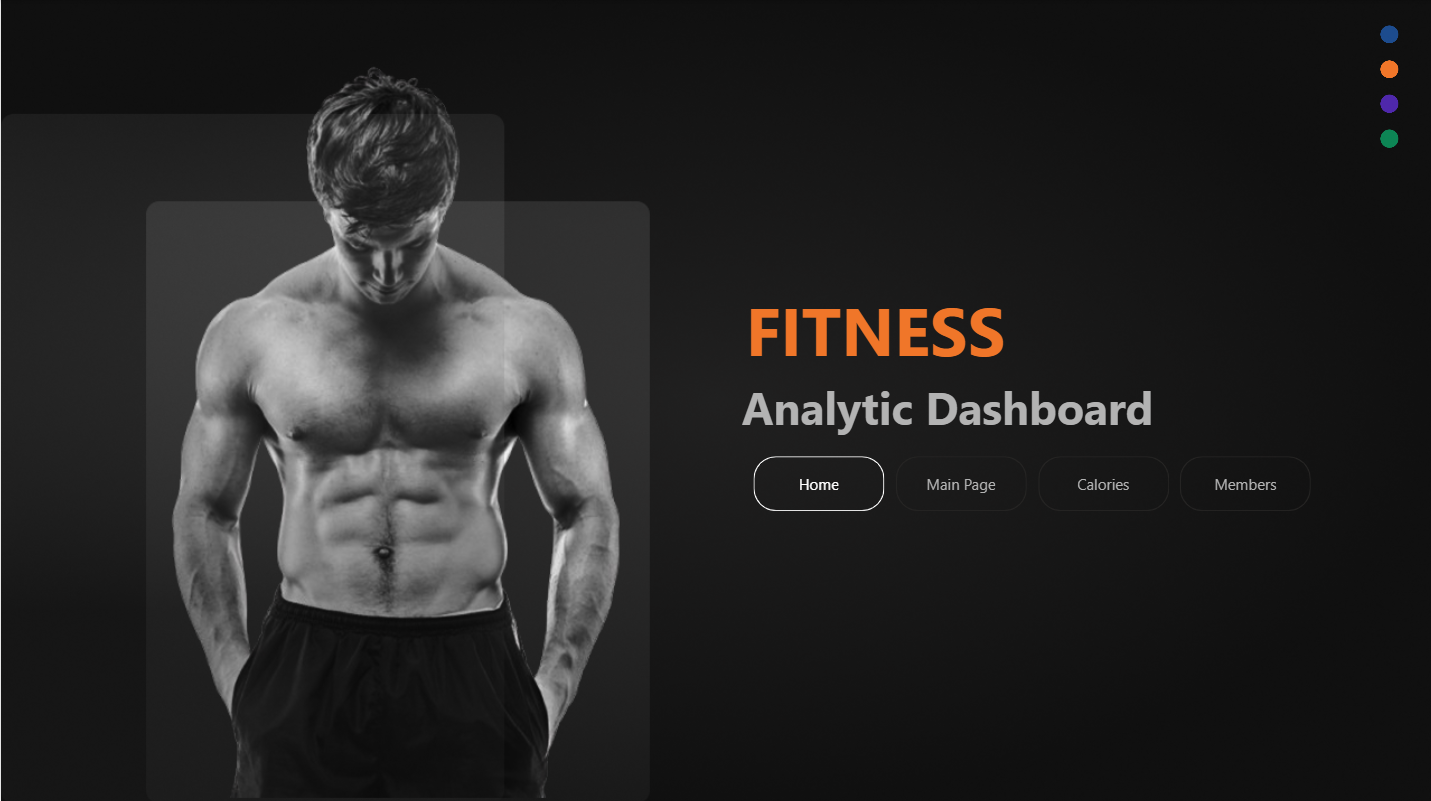

The page's visual inventory and layout, read from the dashboard file:
{"tool":"powerbi","page":{"name":"Home","canvas":[1280,720],"ordinal":0},"visuals":[{"type":"shape","box":[639.5,239.1,282.7,109.2],"z":0},{"type":"shape","box":[620.1,330.1,451.4,65.5],"z":1000},{"type":"pageNavigator","box":[672.3,407.7,500,49.8],"z":2000},{"type":"advancedSlicerVisual","fields":{"Values":["ColorCodes.Icon"]},"box":[1222,14.6,37.6,129.8],"z":3000}]}

Visuals, with their boxes in screenshot pixels (x1, y1, x2, y2), scaled from the page's 1280x720 canvas onto the 1431x801 screenshot:
shape: <bbox>715, 266, 1031, 387</bbox>
shape: <bbox>693, 367, 1198, 440</bbox>
pageNavigator: <bbox>752, 454, 1311, 509</bbox>
advancedSlicerVisual - ColorCodes.Icon: <bbox>1366, 16, 1408, 161</bbox>
